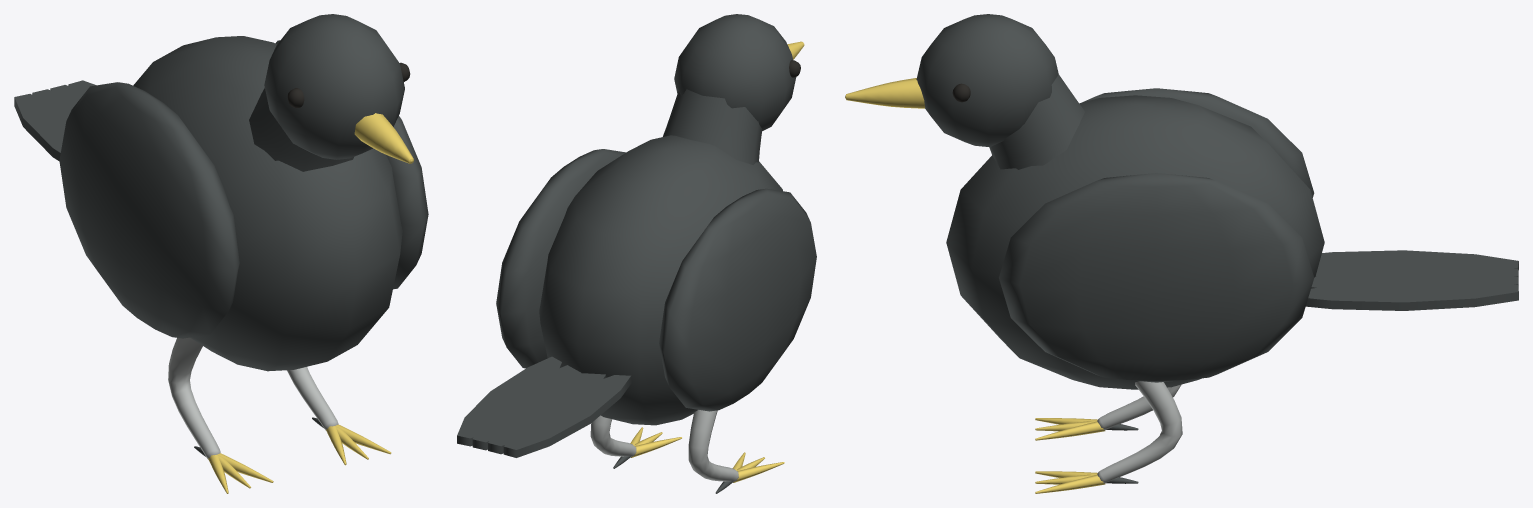
File: birds-and-flying-creatures-blackbird-ad35e64d__20616.glb
The picture shows the model from 3 angles, left to right: view 1: azimuth 30°, elevation 25°; view 2: azimuth 150°, elevation 25°; view 3: azimuth 270°, elevation 25°; orthographic projection. The views are drawn at different scales.
Parts seen in each view (by area): view 1: blackbird; view 2: blackbird; view 3: blackbird.
Part boxes in pixels (bbox=[...]): blackbird: bbox=[14, 14, 428, 493]; blackbird: bbox=[457, 14, 816, 493]; blackbird: bbox=[845, 14, 1518, 493].
Bounding box in the file's own units: 0.1252 × 0.2205 × 0.3076.
